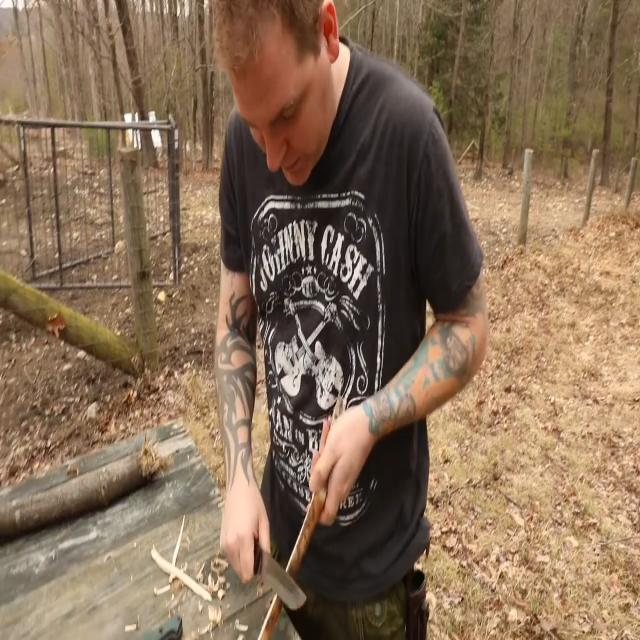knife: (252, 537, 312, 619)
